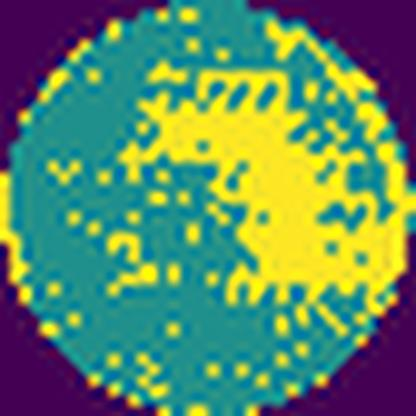Loc: (115, 19, 408, 312)
